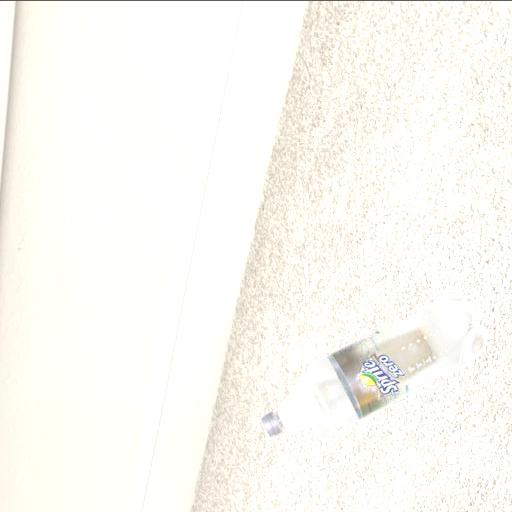bottle: (238, 286, 488, 438)
